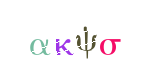A: (15, 0, 95, 80)
C: (46, 0, 126, 80)
K: (34, 0, 114, 80)
S: (49, 0, 129, 80)
